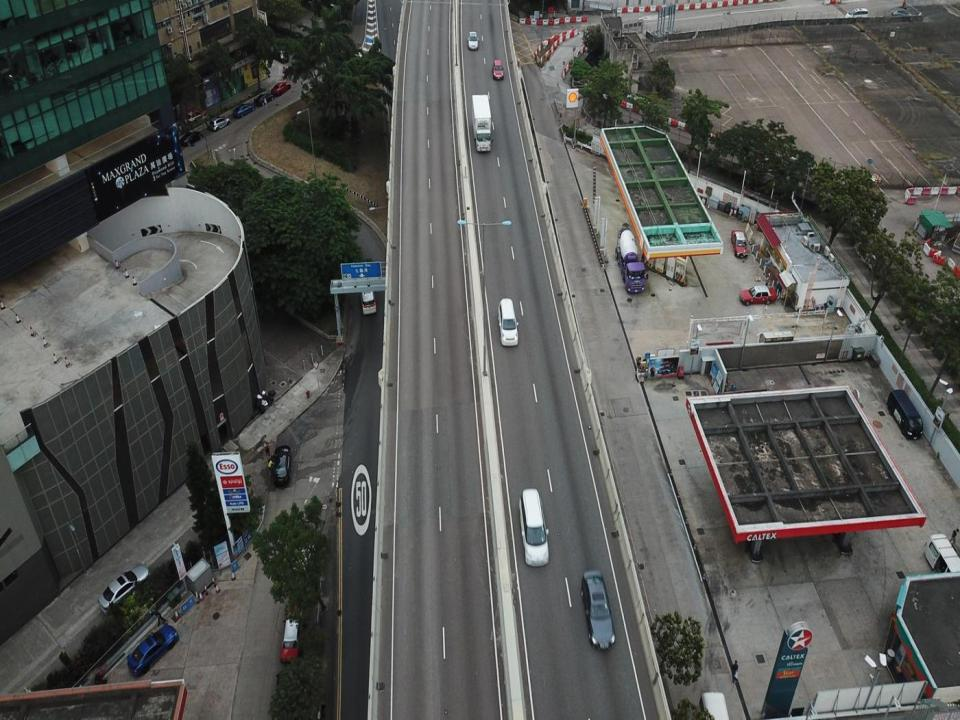car: (578, 566, 617, 654), (126, 622, 180, 677), (517, 485, 553, 566), (100, 563, 150, 611), (279, 602, 305, 664), (494, 292, 519, 347), (269, 443, 293, 488), (738, 282, 777, 306), (360, 275, 377, 313), (730, 227, 749, 258), (178, 126, 206, 145), (182, 108, 210, 125), (270, 44, 290, 63), (210, 114, 228, 132), (272, 79, 290, 97), (254, 90, 273, 107), (233, 102, 255, 116), (467, 26, 479, 50), (492, 55, 503, 80)
truck: (613, 225, 647, 295), (470, 92, 492, 153)
van: (886, 386, 924, 441)
